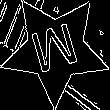M_S: (27, 18, 83, 81)
